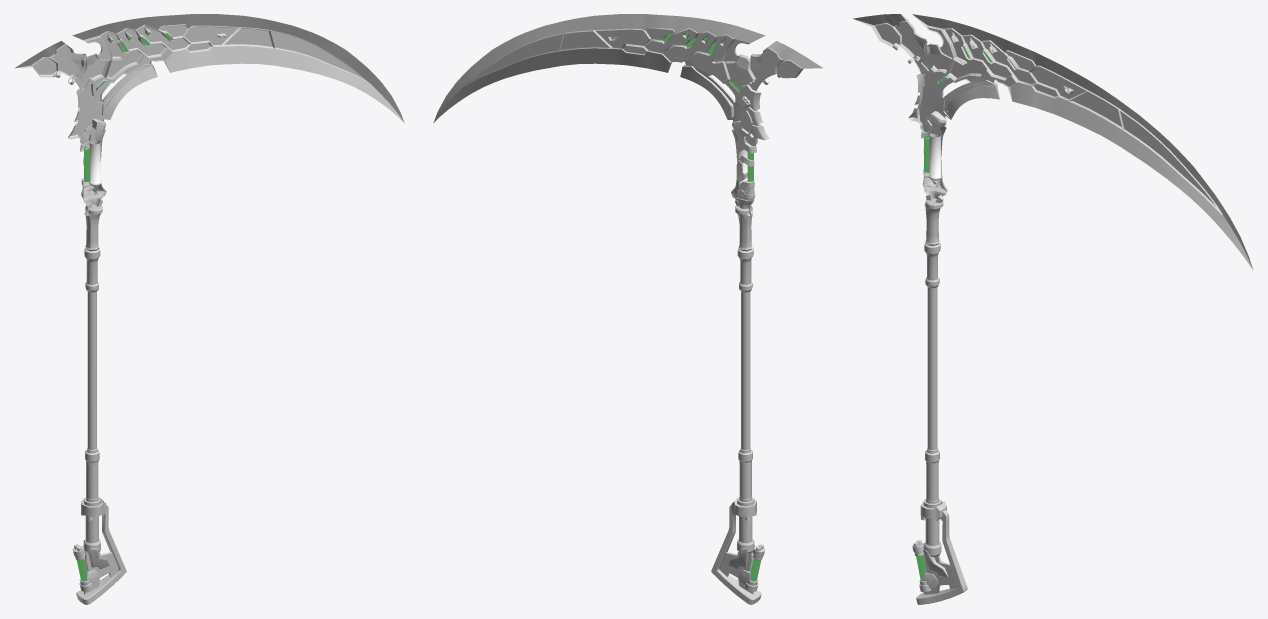
The model's file is Mech-Scythe.gltf.
3 renders of one model, left to right at view 1: azimuth 30°, elevation 25°; view 2: azimuth 150°, elevation 25°; view 3: azimuth 330°, elevation 25°, orthographic. The views are drawn at different scales.
Visible parts, largest first — view 1: Blade, Pole, Inner Section; view 2: Blade, Pole, Inner Section; view 3: Blade, Pole, Inner Section, Inner Tube.
Part boxes in pixels (box(x1,y1,x2,y2)): Blade: box(15, 14, 404, 204); Pole: box(72, 204, 126, 604); Inner Section: box(72, 36, 172, 197); Blade: box(433, 14, 822, 208); Pole: box(711, 205, 765, 604); Inner Section: box(663, 39, 763, 200); Blade: box(853, 14, 1253, 270); Pole: box(912, 198, 967, 604); Inner Section: box(913, 26, 1015, 187); Inner Tube: box(929, 133, 941, 180).
Bounding box in the file's own units: 3.36 × 4.71 × 0.1825.
